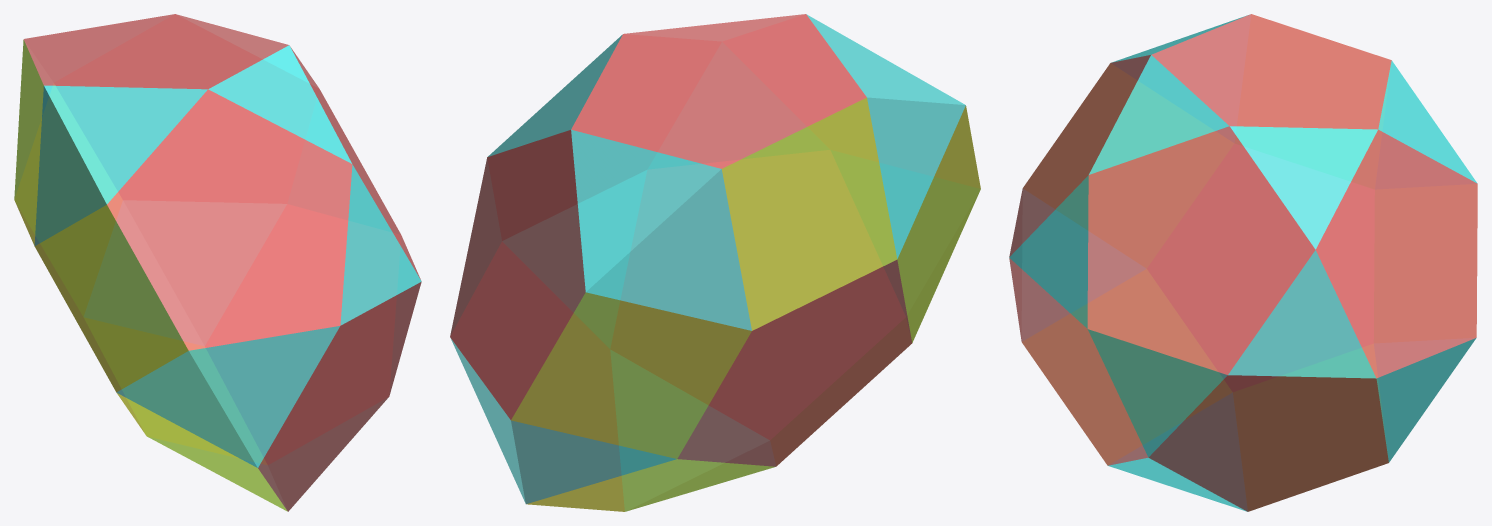
Rendered from j33_pentagonal_gyrocupolarotunda.obj.
3 renders of one model, left to right at view 1: azimuth 30°, elevation 25°; view 2: azimuth 150°, elevation 25°; view 3: azimuth 270°, elevation 25°, orthographic. The views are drawn at different scales.
Bounding box in the file's own units: 1.7 × 1.97 × 2.06.
